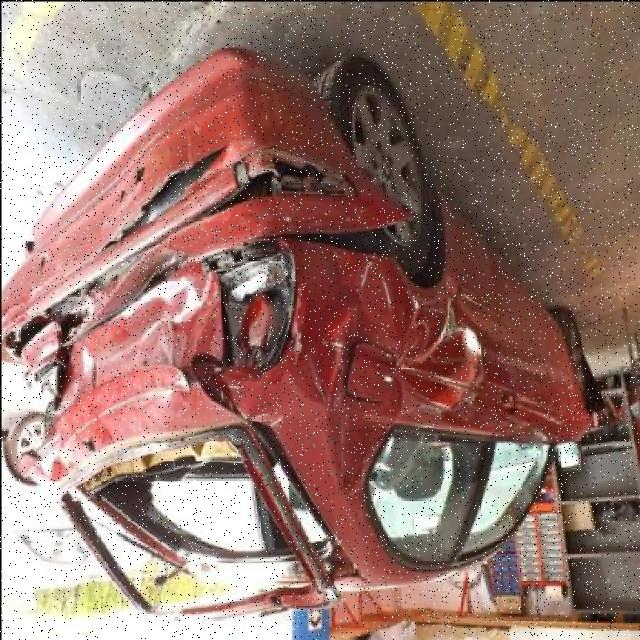damage: (1, 92, 418, 481), (64, 437, 314, 611), (324, 259, 425, 495), (398, 301, 478, 411)
